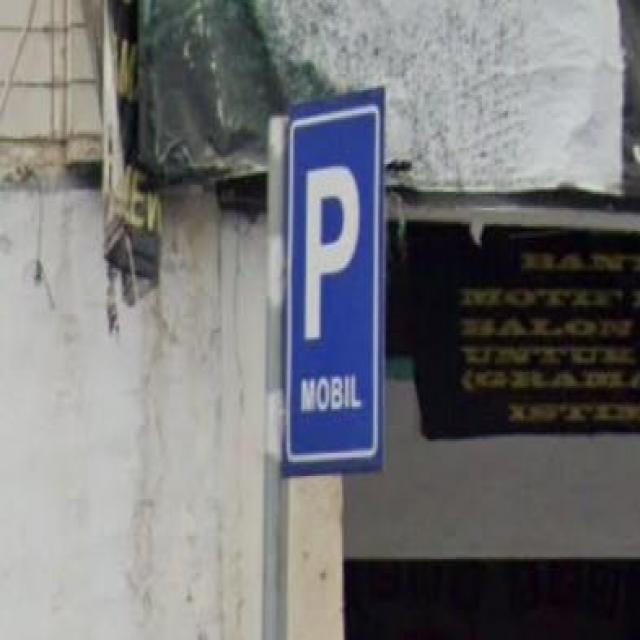traffic sign: (284, 88, 385, 469)
